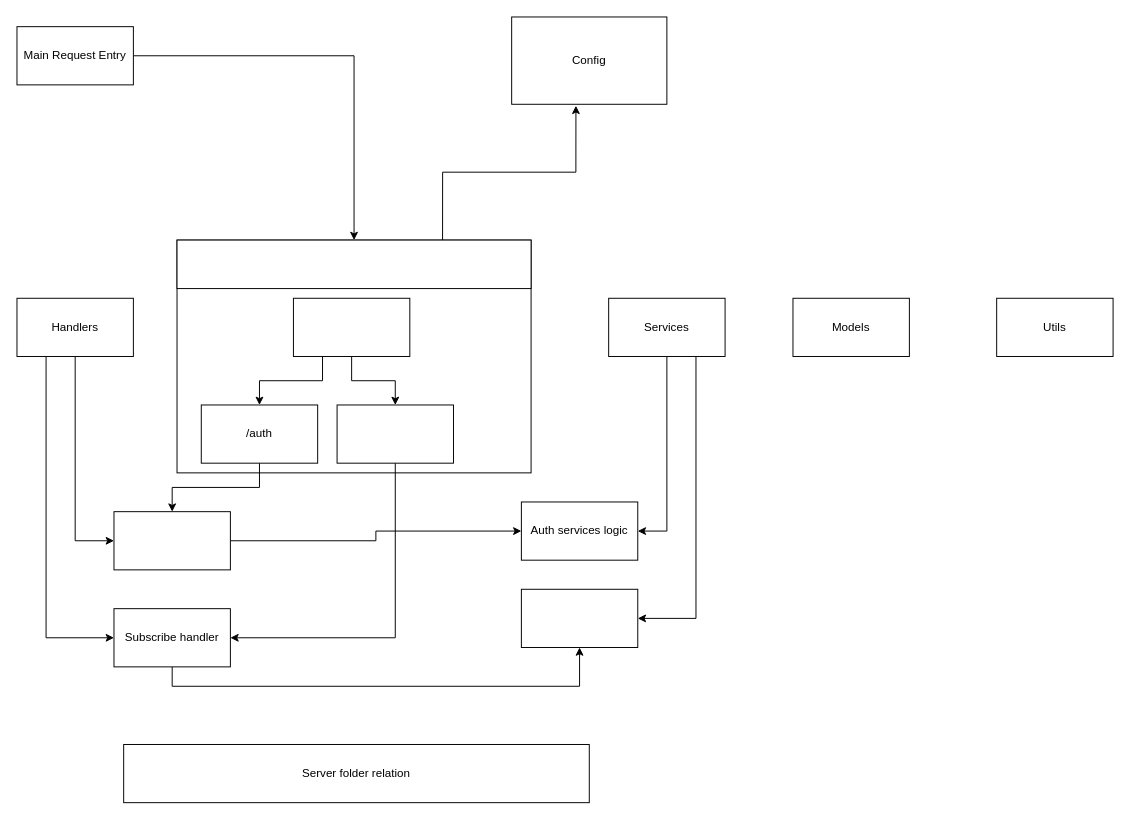
This 1130x820 diagram has some shape labels left out. Each missing label, with the centre of its shape:
/subscribe: the point at 394,433
Actix-web url routing: the point at 353,264
Api: the point at 351,326
Auth handler: the point at 171,540
Subscribe logic: the point at 579,617
